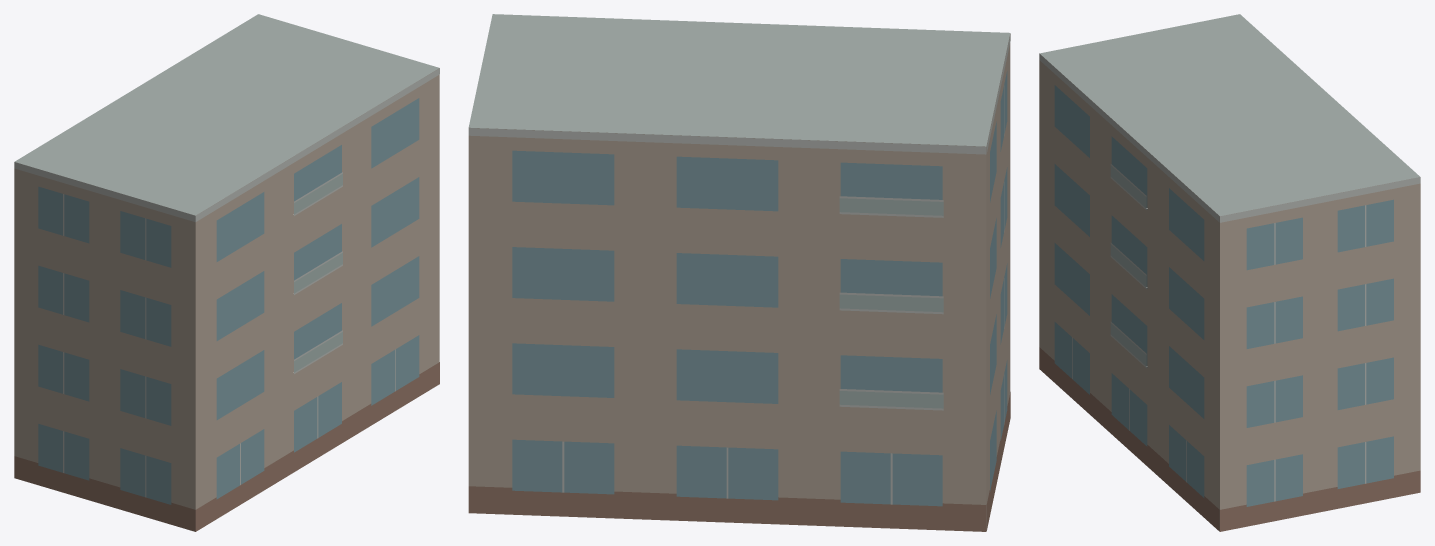
The model's file is survey-upis-32952931.glb.
The picture shows the model from 3 angles, left to right: view 1: azimuth 30°, elevation 25°; view 2: azimuth 150°, elevation 25°; view 3: azimuth 270°, elevation 25°; orthographic projection. The views are drawn at different scales.
Parts seen in each view (by area): view 1: survey-upis-32952931.tmp; view 2: survey-upis-32952931.tmp; view 3: survey-upis-32952931.tmp.
Part boxes in pixels (x1,y1,x2,y2): survey-upis-32952931.tmp: (14, 14, 439, 531); survey-upis-32952931.tmp: (468, 14, 1010, 531); survey-upis-32952931.tmp: (1039, 14, 1420, 531).
Size of the model in its own units: 16.09 by 11.7 by 12.82.
